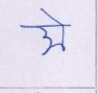o_matra: (55, 15, 69, 52)
